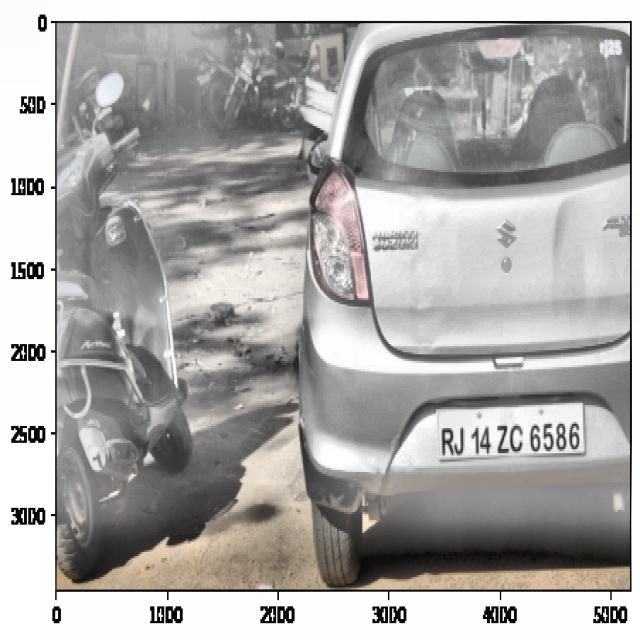license_plate: (433, 410, 586, 460)
